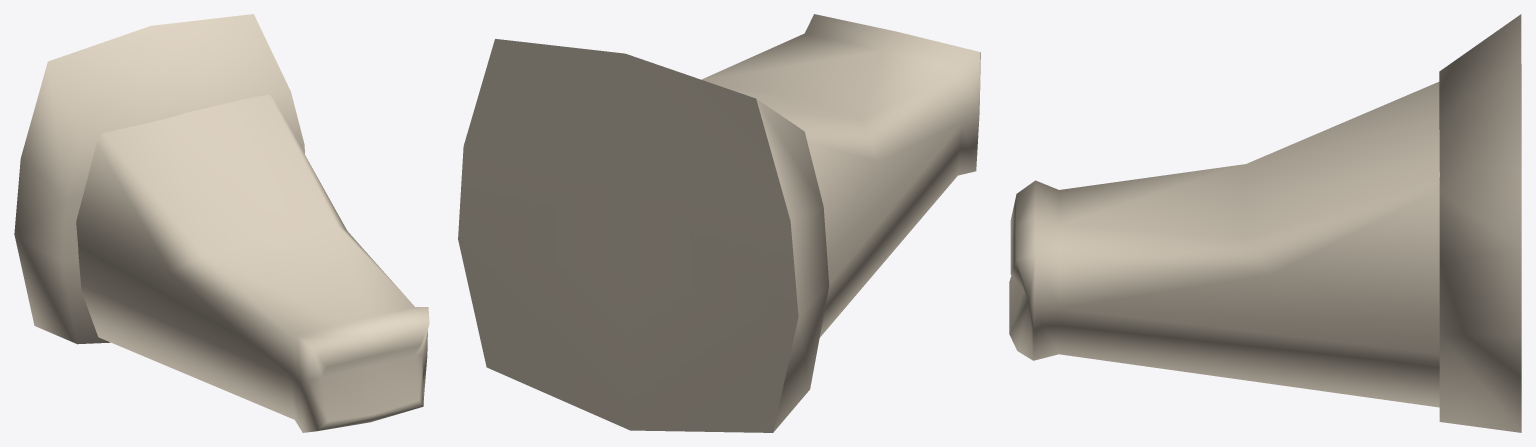
File: bow-ironweapons.glb
3 views of the same model, side by side, from view 1: azimuth 30°, elevation 25°; view 2: azimuth 150°, elevation 25°; view 3: azimuth 270°, elevation 25° (orthographic). The views are drawn at different scales.
Bounding box in the file's own units: 0.4909 × 0.5181 × 0.712.
